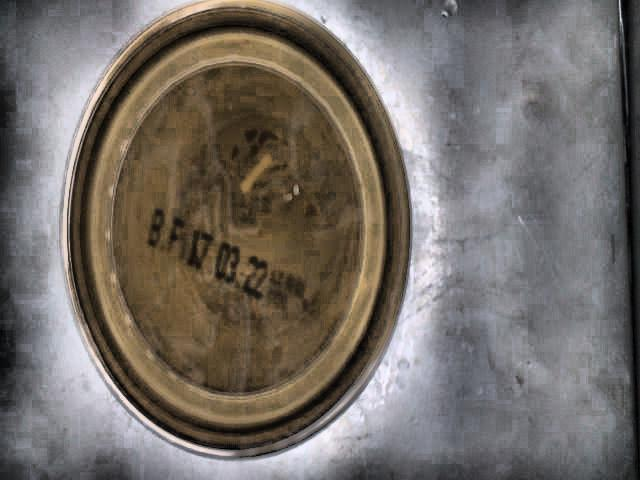Plastic: (62, 0, 413, 455)
